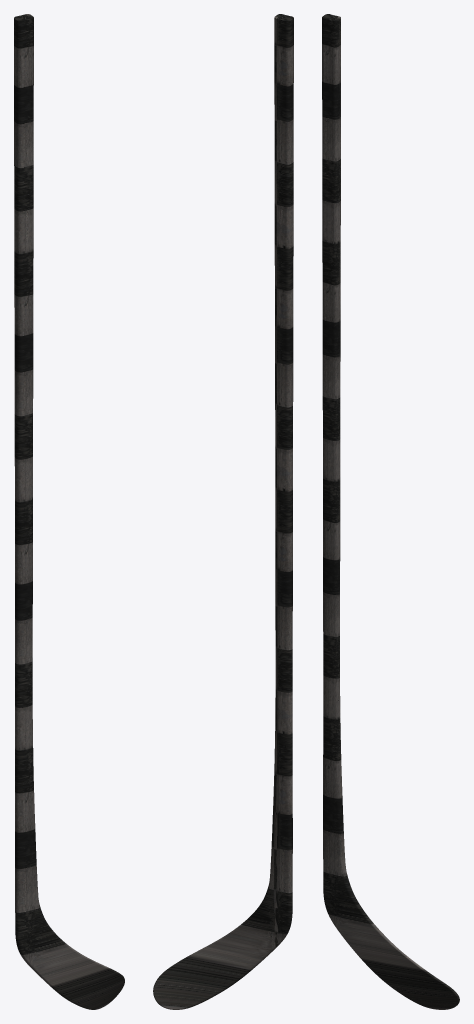
File: P28-SBO-JR.glb
The picture shows the model from 3 angles, left to right: view 1: azimuth 30°, elevation 25°; view 2: azimuth 150°, elevation 25°; view 3: azimuth 330°, elevation 25°; orthographic projection. The views are drawn at different scales.
Parts seen in each view (by area): view 1: geometry_0; view 2: geometry_0; view 3: geometry_0.
Boxes of the visible parts, x1,y1,x2,y2 form: geometry_0: [14, 14, 124, 1009]; geometry_0: [153, 14, 293, 1009]; geometry_0: [322, 14, 459, 1009].
Size of the model in its own units: 210 by 1650 by 66.46.
Materials: 1 (1 with a texture image).
